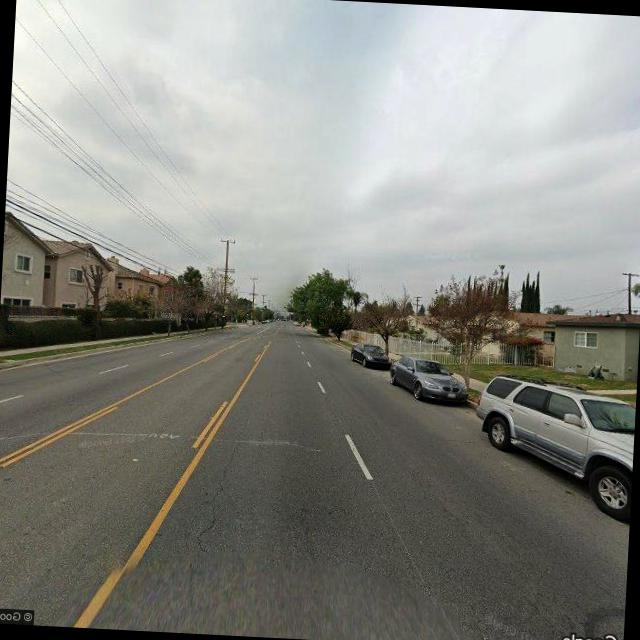pothole: (191, 406, 252, 548)
